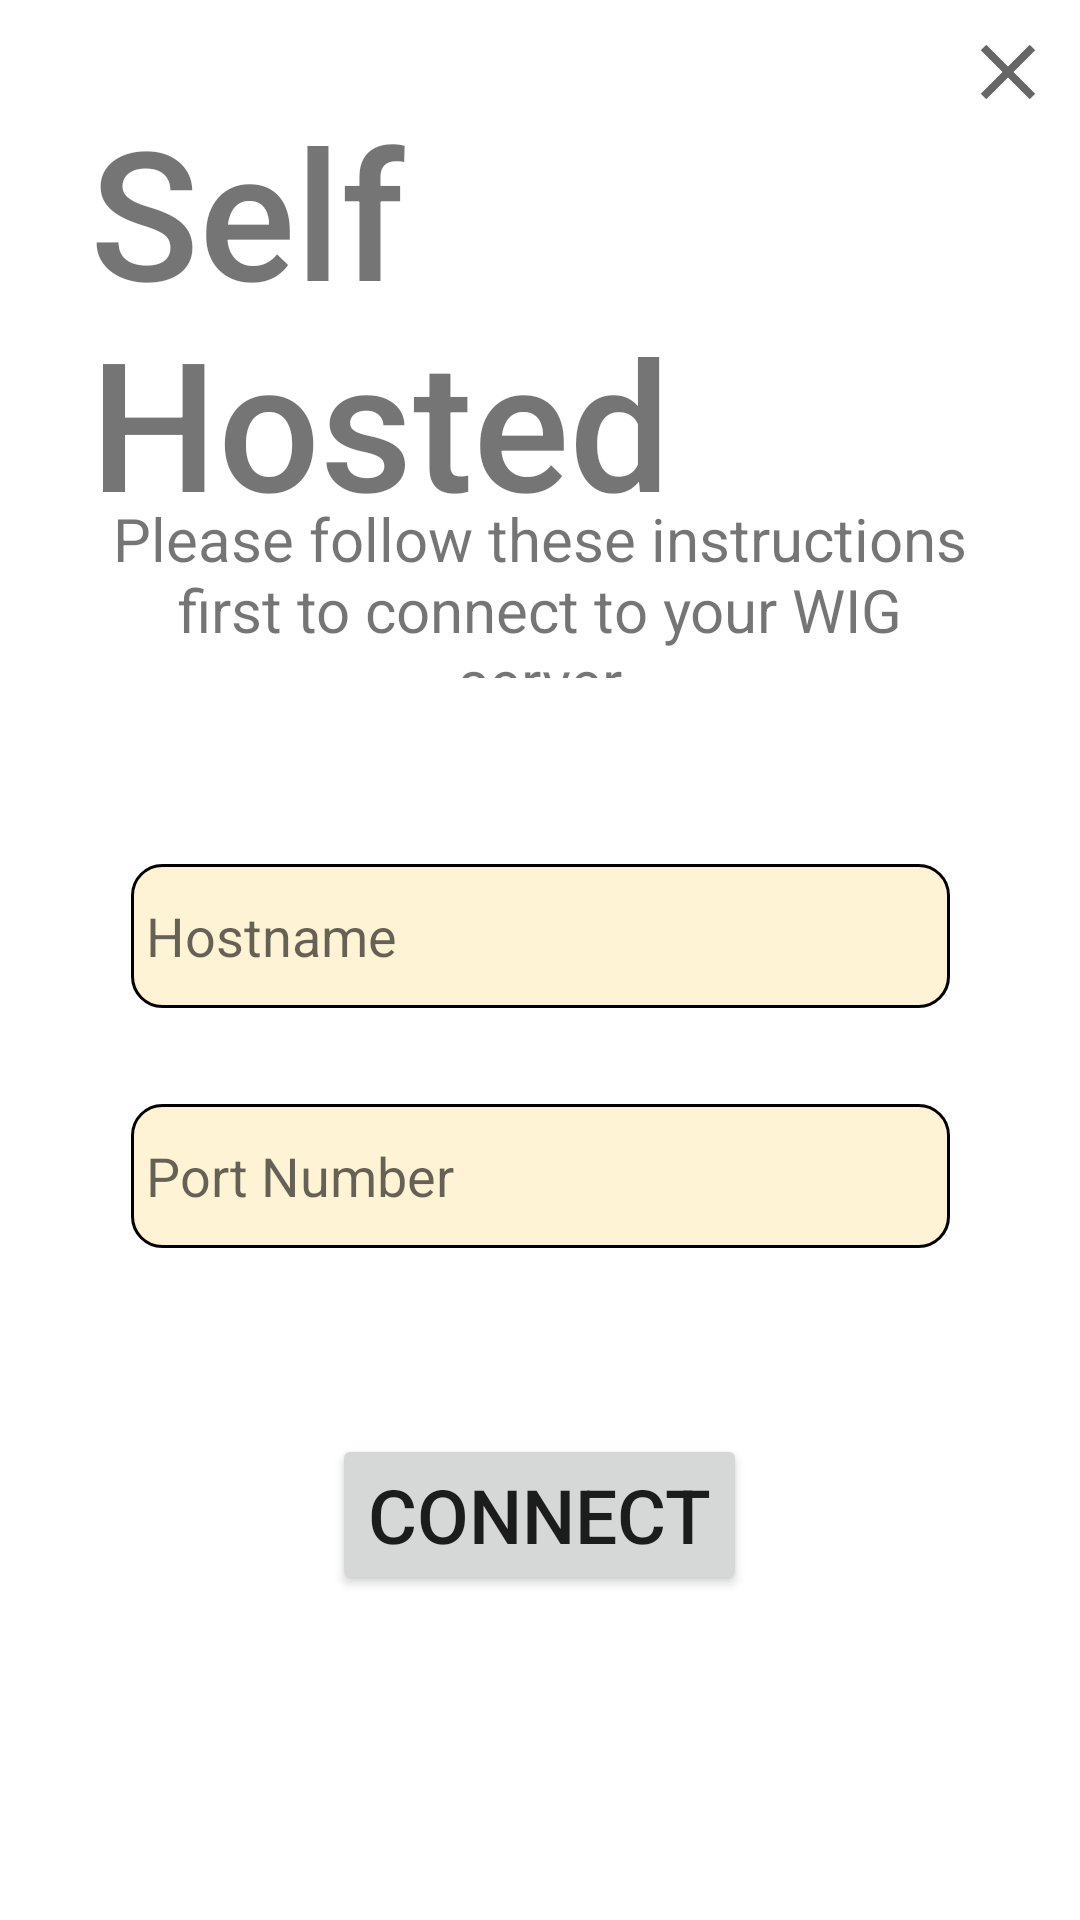

Icon click points for this 1080w x 1920h phone screenshot, format [x,y]:
Exit: [1008,72]
